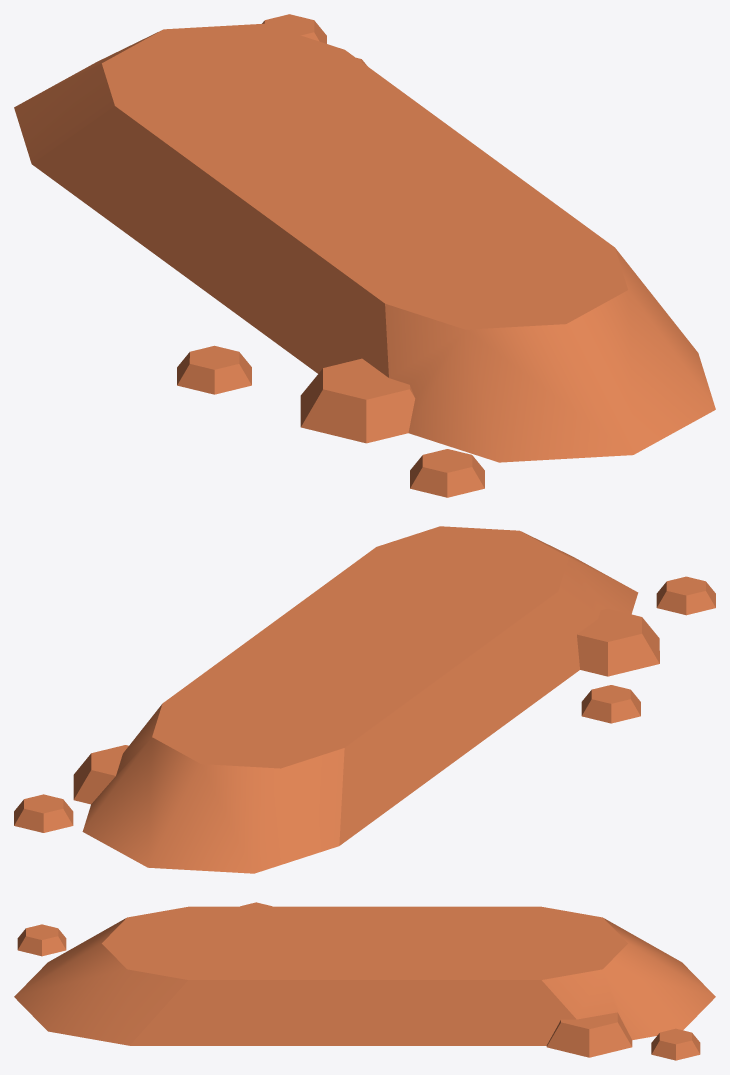
Rendered from grave.fbx.
3 views of the same model, one above another, from view 1: azimuth 30°, elevation 25°; view 2: azimuth 150°, elevation 25°; view 3: azimuth 270°, elevation 25° (orthographic). The views are drawn at different scales.
Parts seen in each view (by area): view 1: grave; view 2: grave; view 3: grave.
Part boxes in pixels (left/top/right/bottom): grave: left=14, top=14, right=715, bottom=497; grave: left=14, top=526, right=715, bottom=873; grave: left=14, top=902, right=715, bottom=1060.
Size of the model in its own units: 5.73 by 0.9522 by 11.32.
